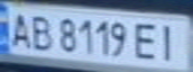1: (90, 16, 112, 56), (75, 16, 96, 55)
8: (54, 15, 78, 53)
9: (109, 17, 133, 59)
A: (3, 9, 36, 48)
B: (24, 11, 57, 52)
E: (130, 19, 163, 61)
I: (154, 20, 187, 63)
